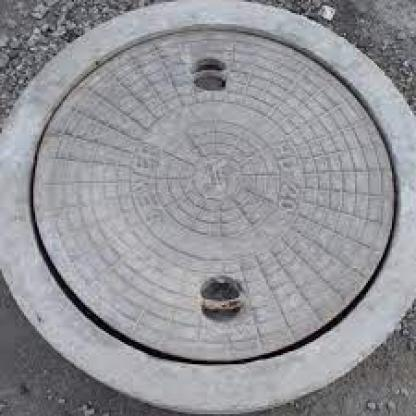closed manhole-not overflowing-: (3, 2, 416, 407)
